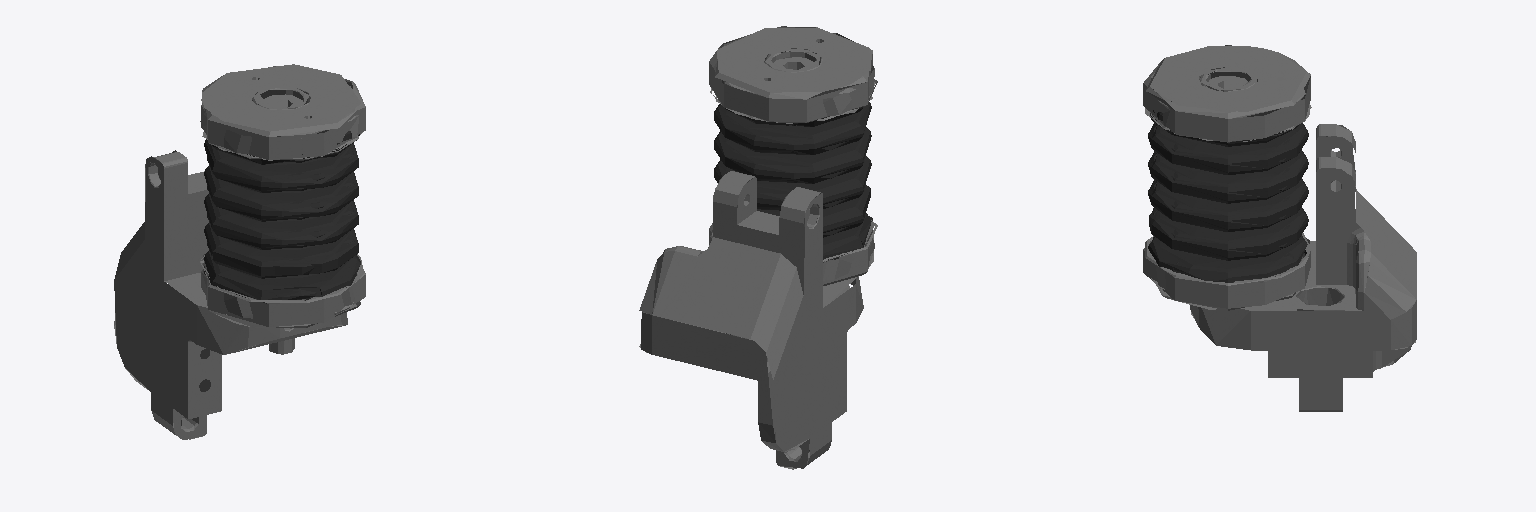
The picture shows the model from 3 angles: view 1: azimuth 30°, elevation 25°; view 2: azimuth 150°, elevation 25°; view 3: azimuth 270°, elevation 25°; orthographic projection.
Size of the model in its own units: 0.0195 by 0.0448 by 0.0314.
1 materials, 1 textured.